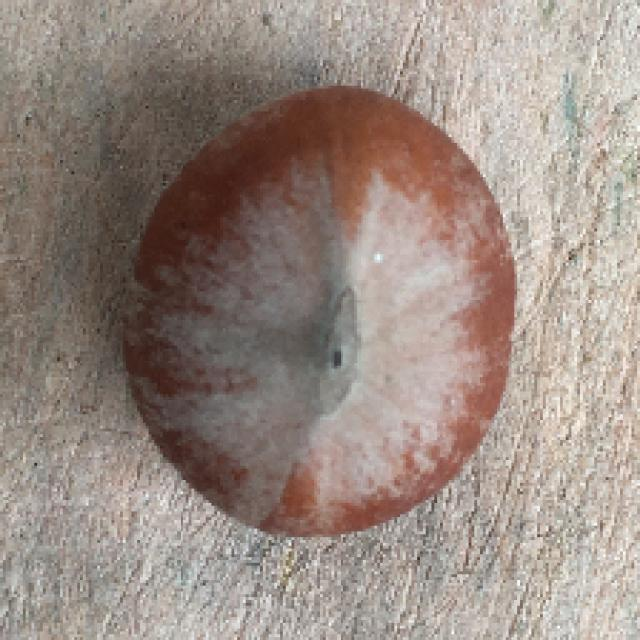qualityHazelnut: (124, 83, 521, 542)
